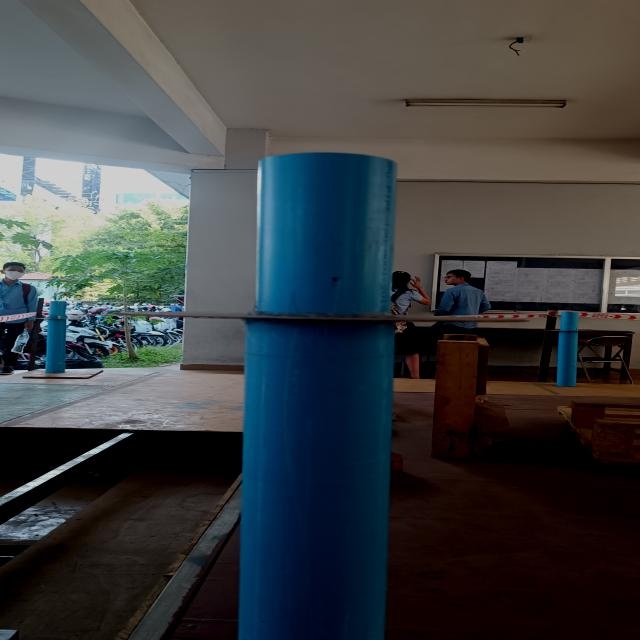pole: (100, 140, 536, 487)
